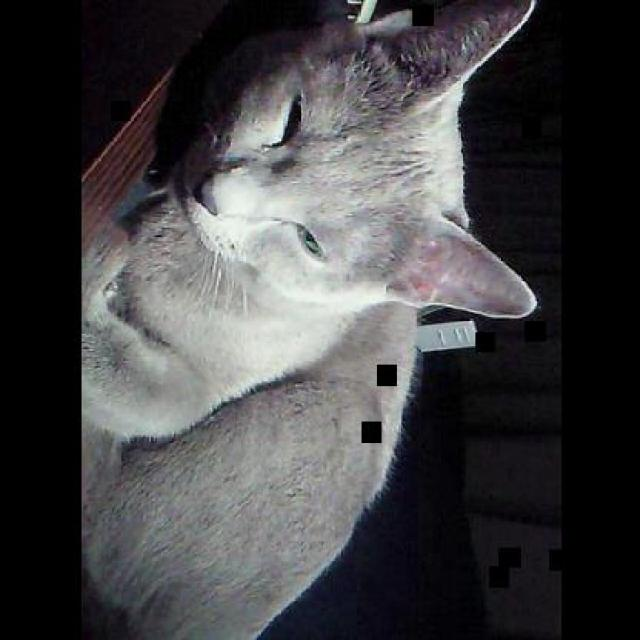unauthorized: (79, 0, 538, 638)
